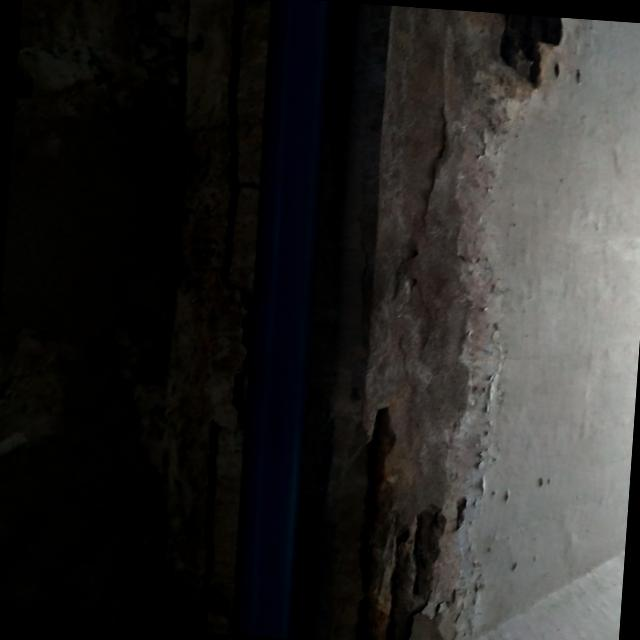gas: (222, 0, 341, 639)
